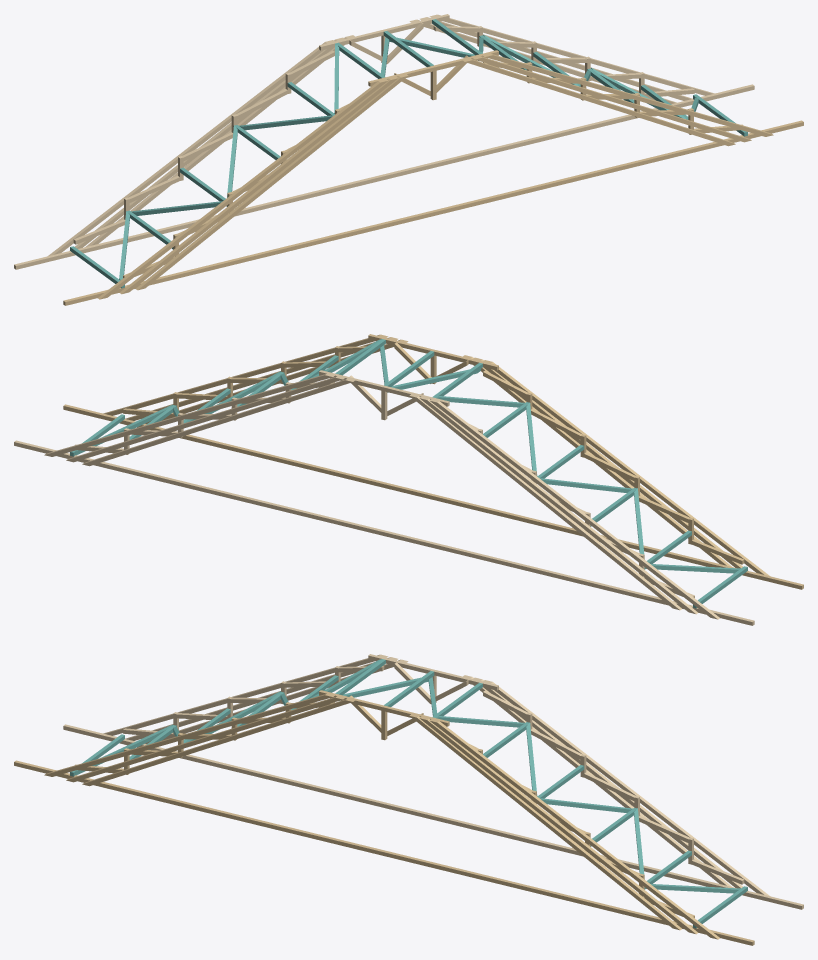
File: bridge-v2-model.glb
The picture shows the model from 3 angles, top to bottom: view 1: azimuth 30°, elevation 25°; view 2: azimuth 150°, elevation 25°; view 3: azimuth 330°, elevation 25°; orthographic projection.
Visible parts, largest first — view 1: N_A, P_A, N_CL1, N_CL2, N_CL3, P_CL1, N_CR1, N_CR2, N_CR3, P_CR1, P_CL2, P_CL3 (+4 smaller); view 2: P_A, N_A, P_CL1, P_CL2, P_CL3, N_CL1, P_CR1, P_CR2, P_CR3, N_CR1, N_CL2, N_CL3 (+4 smaller); view 3: N_A, P_A, N_CR1, N_CR2, N_CR3, P_CR1, N_CL1, N_CL2, N_CL3, P_CL1, P_CR2, P_CR3 (+4 smaller).
Boxes of the visible parts, <box> form: N_A: <box>63,120,803,305</box>; P_A: <box>14,84,754,269</box>; N_CL1: <box>98,79,388,299</box>; N_CL2: <box>119,76,398,294</box>; N_CL3: <box>136,74,408,290</box>; P_CL1: <box>48,40,334,255</box>; N_CR1: <box>483,53,773,136</box>; N_CR2: <box>473,56,751,142</box>; N_CR3: <box>463,58,735,146</box>; P_CR1: <box>429,14,714,95</box>; P_CL2: <box>69,37,344,250</box>; P_CL3: <box>86,35,354,246</box>; P_A: <box>14,440,754,625</box>; N_A: <box>63,404,803,589</box>; P_CL1: <box>429,399,719,619</box>; P_CL2: <box>419,396,698,614</box>; P_CL3: <box>409,394,681,610</box>; N_CL1: <box>483,360,769,575</box>; P_CR1: <box>44,373,334,456</box>; P_CR2: <box>66,376,344,462</box>; P_CR3: <box>82,378,354,466</box>; N_CR1: <box>103,334,388,415</box>; N_CL2: <box>473,357,748,570</box>; N_CL3: <box>463,355,731,566</box>; N_A: <box>14,760,754,945</box>; P_A: <box>63,724,803,909</box>; N_CR1: <box>429,719,719,939</box>; N_CR2: <box>419,716,698,934</box>; N_CR3: <box>409,714,681,930</box>; P_CR1: <box>483,680,769,895</box>; N_CL1: <box>44,693,334,776</box>; N_CL2: <box>66,696,344,782</box>; N_CL3: <box>82,698,354,786</box>; P_CL1: <box>103,654,388,735</box>; P_CR2: <box>473,677,748,890</box>; P_CR3: <box>463,675,731,886</box>.
Size of the model in its own units: 0.51 by 0.098 by 0.0665.
